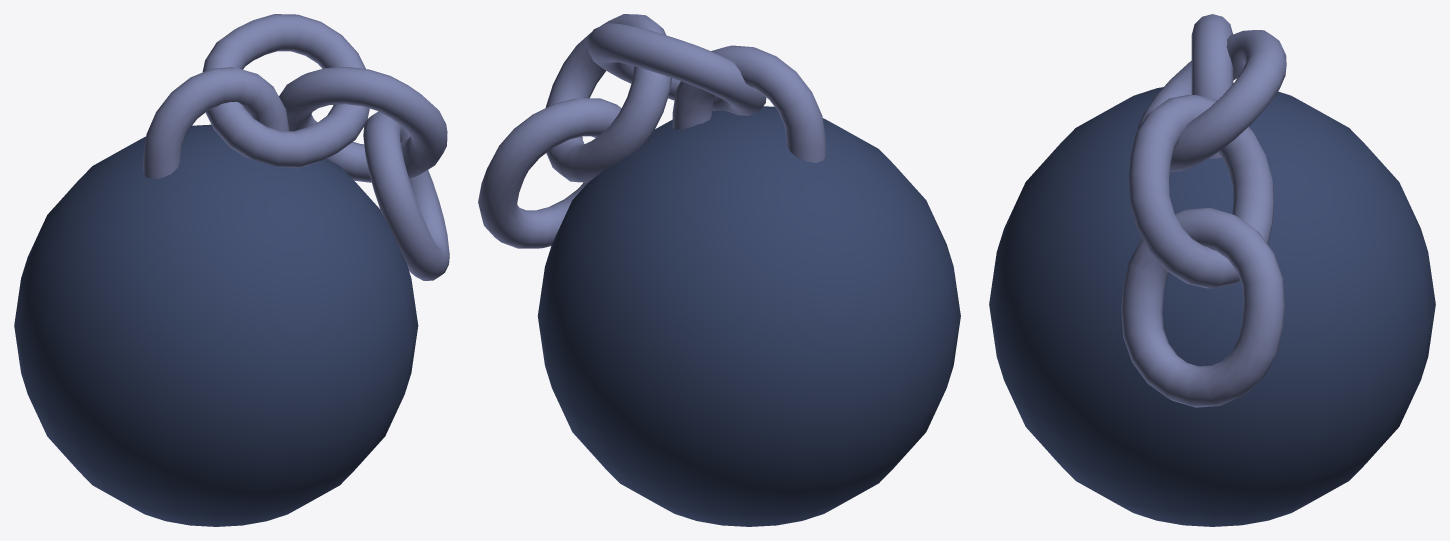
File: Item_Weight.FBX
3 views of the same model, side by side, from view 1: azimuth 30°, elevation 25°; view 2: azimuth 150°, elevation 25°; view 3: azimuth 270°, elevation 25° (orthographic). The views are drawn at different scales.
Parts seen in each view (by area): view 1: Item_Weight; view 2: Item_Weight; view 3: Item_Weight.
Part boxes in pixels (bbox=[...]): Item_Weight: bbox=[14, 14, 449, 526]; Item_Weight: bbox=[478, 14, 960, 526]; Item_Weight: bbox=[989, 14, 1435, 526].
Bounding box in the file's own units: 5.2 × 5.48 × 4.41.
